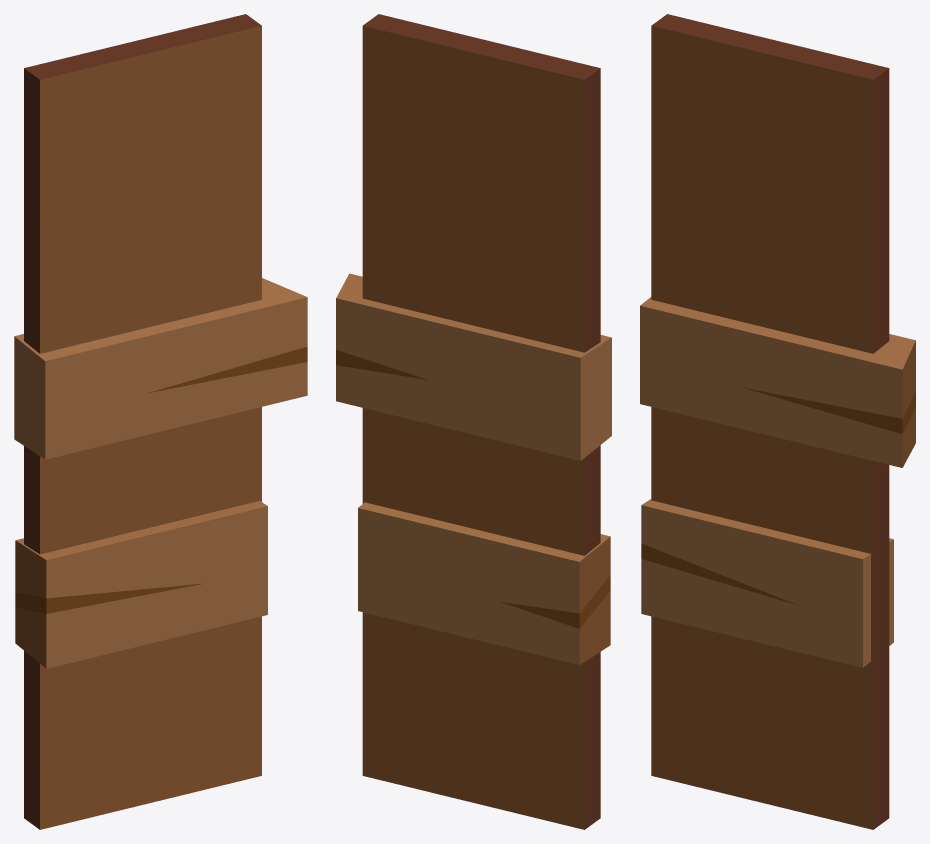
The model's file is door_l.fbx.
3 views of the same model, side by side, from view 1: azimuth 30°, elevation 25°; view 2: azimuth 150°, elevation 25°; view 3: azimuth 330°, elevation 25° (orthographic).
Parts seen in each view (by area): view 1: door_l; view 2: door_l; view 3: door_l.
Part boxes in pixels (left/top/right/bottom): door_l: left=14, top=14, right=307, bottom=829; door_l: left=336, top=14, right=611, bottom=829; door_l: left=640, top=14, right=915, bottom=829.
Bounding box in the file's own units: 84.59 × 231 × 17.33.
